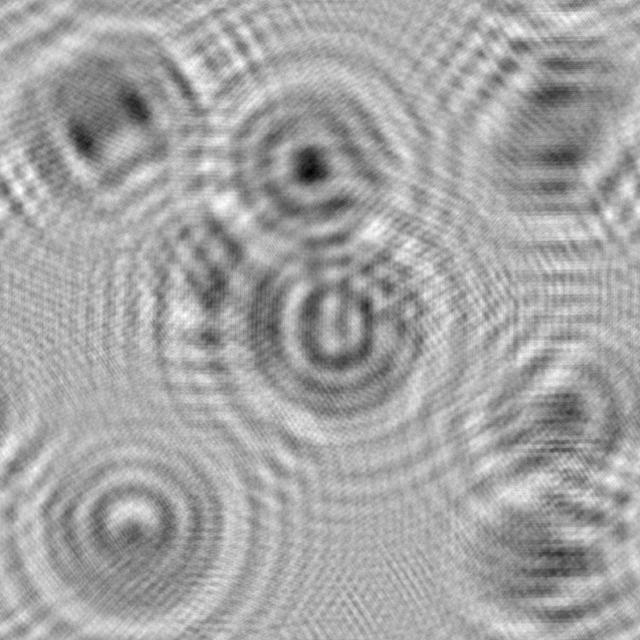C: (0, 387, 279, 640)
E: (0, 0, 238, 241)
J: (414, 281, 640, 521)
L: (94, 147, 286, 438)
P: (176, 32, 450, 294)
Q: (199, 184, 481, 471)
V: (413, 433, 640, 640)
Z: (437, 0, 640, 263)
